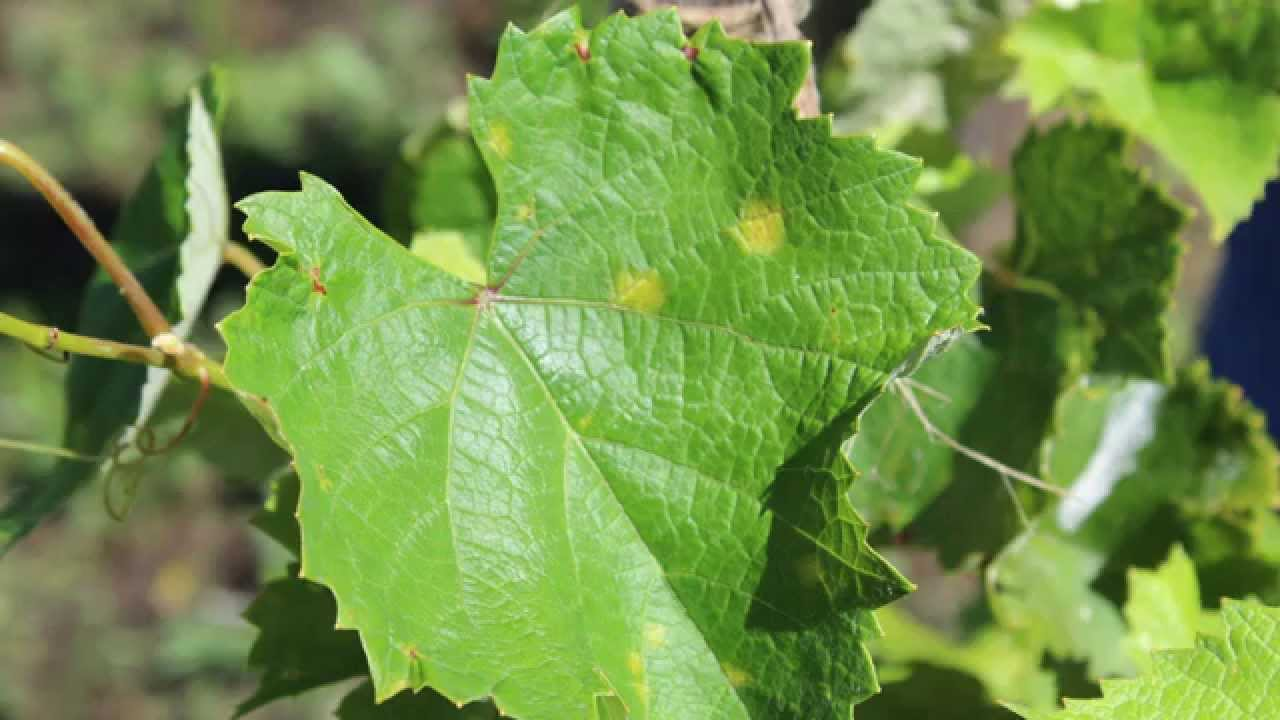downy: (611, 612, 698, 703), (806, 301, 901, 374), (713, 194, 805, 266), (599, 255, 675, 331), (481, 111, 528, 176), (708, 659, 764, 701)
